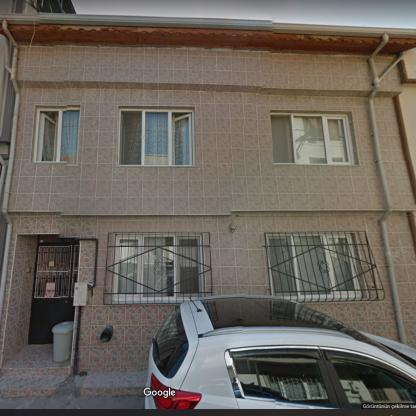door: (29, 238, 77, 344)
window: (267, 231, 364, 299), (114, 233, 203, 301), (119, 107, 193, 165), (270, 112, 354, 163), (34, 108, 78, 163)
